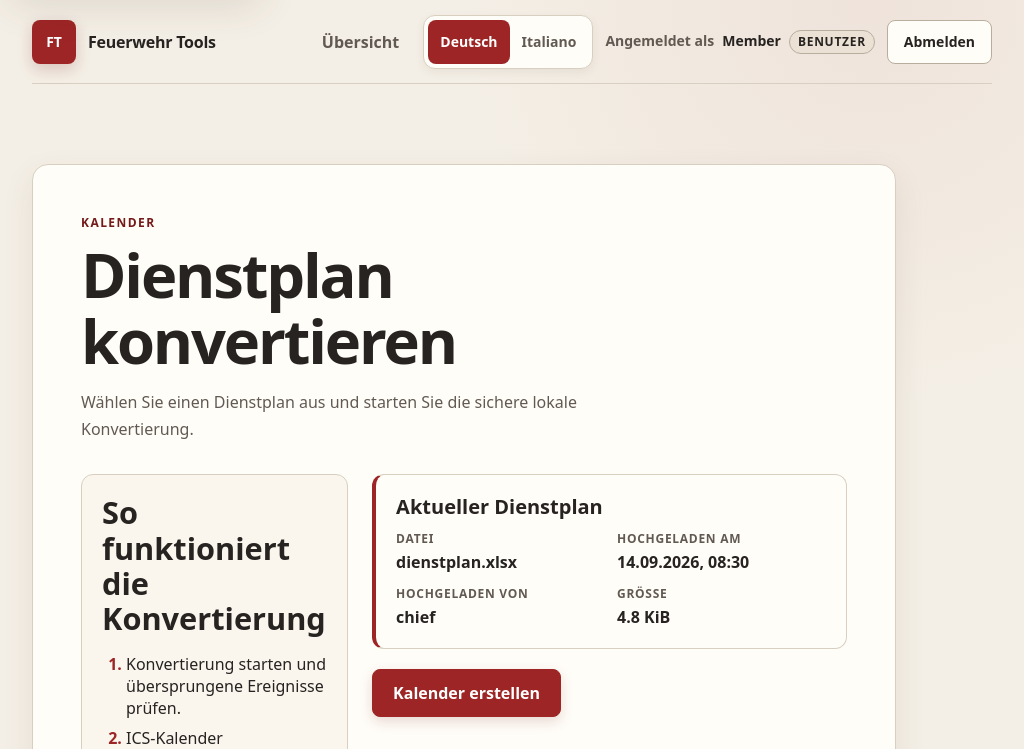
Test: calendar converter page › shows a plain user only the schedule, conversion, and download
The image size is (1024, 749).
Expected: the text "dienstplan.xlsx" is shown, [396,551,517,573]
Click the button "Kalender erstellen" at point(467, 693), box [372,669,561,717]
(page scrolled)
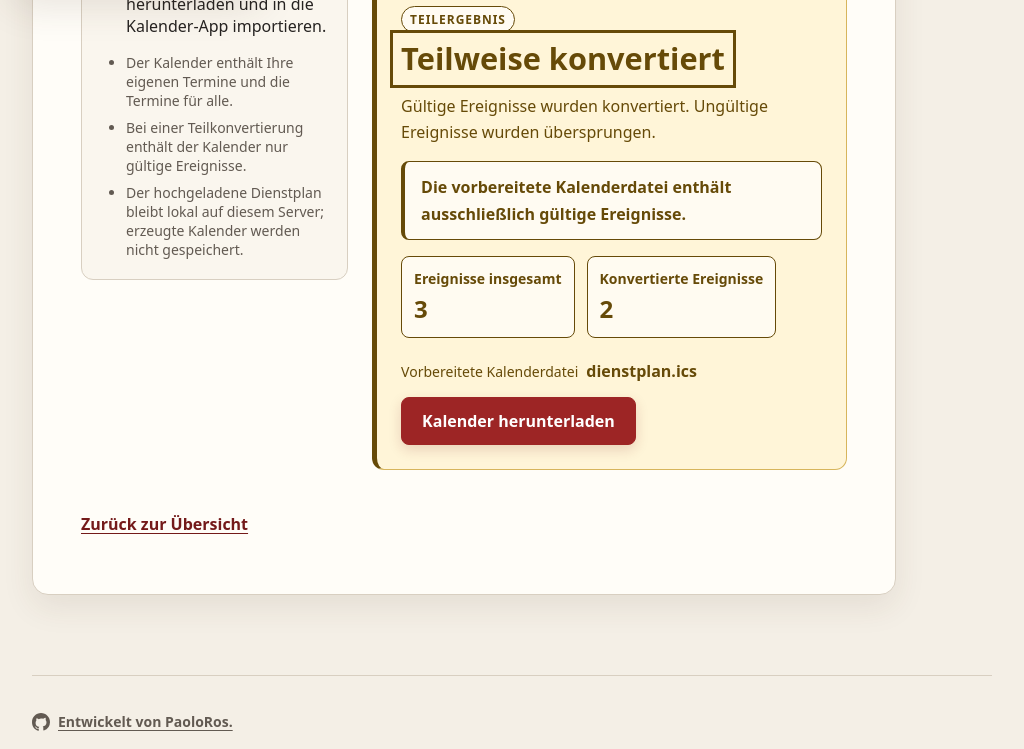
Now the heading "Teilweise konvertiert" is shown, box [401,41,725,77]
Now the button "Kalender herunterladen" is enabled, box [401,396,636,444]
